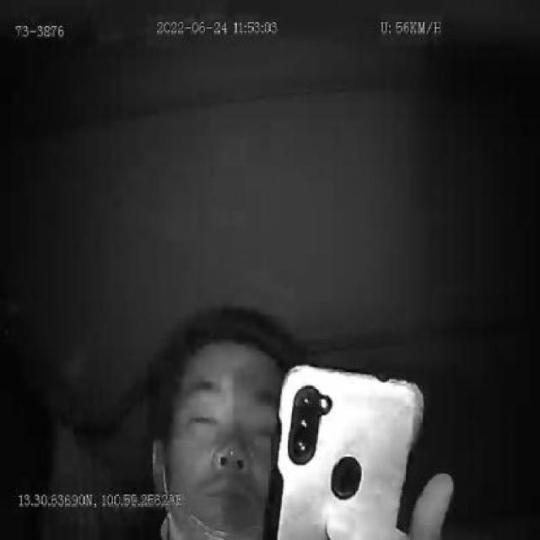phone: (270, 364, 424, 540)
